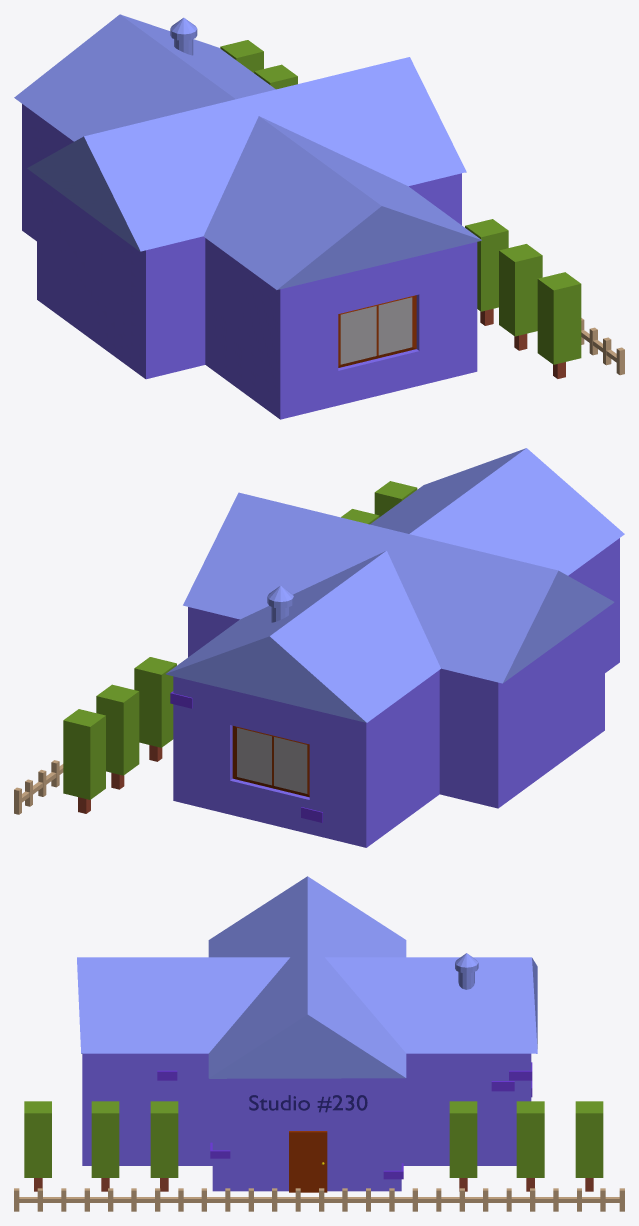
The model's file is RichBuildingBlue.fbx.
The picture shows the model from 3 angles, top to bottom: view 1: azimuth 30°, elevation 25°; view 2: azimuth 150°, elevation 25°; view 3: azimuth 270°, elevation 25°; orthographic projection. The views are drawn at different scales.
Visible parts, largest first — view 1: Building, Cube, Cube.001; view 2: Building, Cube, Cube.001; view 3: Building, Cube, Cube.001, Text.
Part boxes in pixels (bbox=[...]): Building: bbox=[14, 14, 481, 419]; Cube: bbox=[220, 40, 581, 378]; Cube.001: bbox=[581, 318, 624, 375]; Building: bbox=[166, 448, 624, 847]; Cube: bbox=[63, 481, 417, 813]; Cube.001: bbox=[14, 760, 63, 814]; Building: bbox=[77, 876, 537, 1192]; Cube: bbox=[24, 1101, 603, 1191]; Cube.001: bbox=[14, 1188, 624, 1211]; Text: bbox=[249, 1095, 367, 1112].
Bounding box in the file's own units: 1536 × 828 × 2515.
